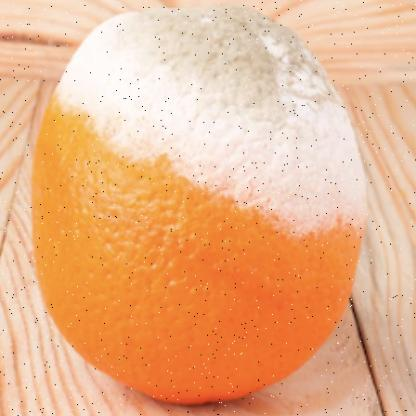rotten: (32, 9, 362, 407)
